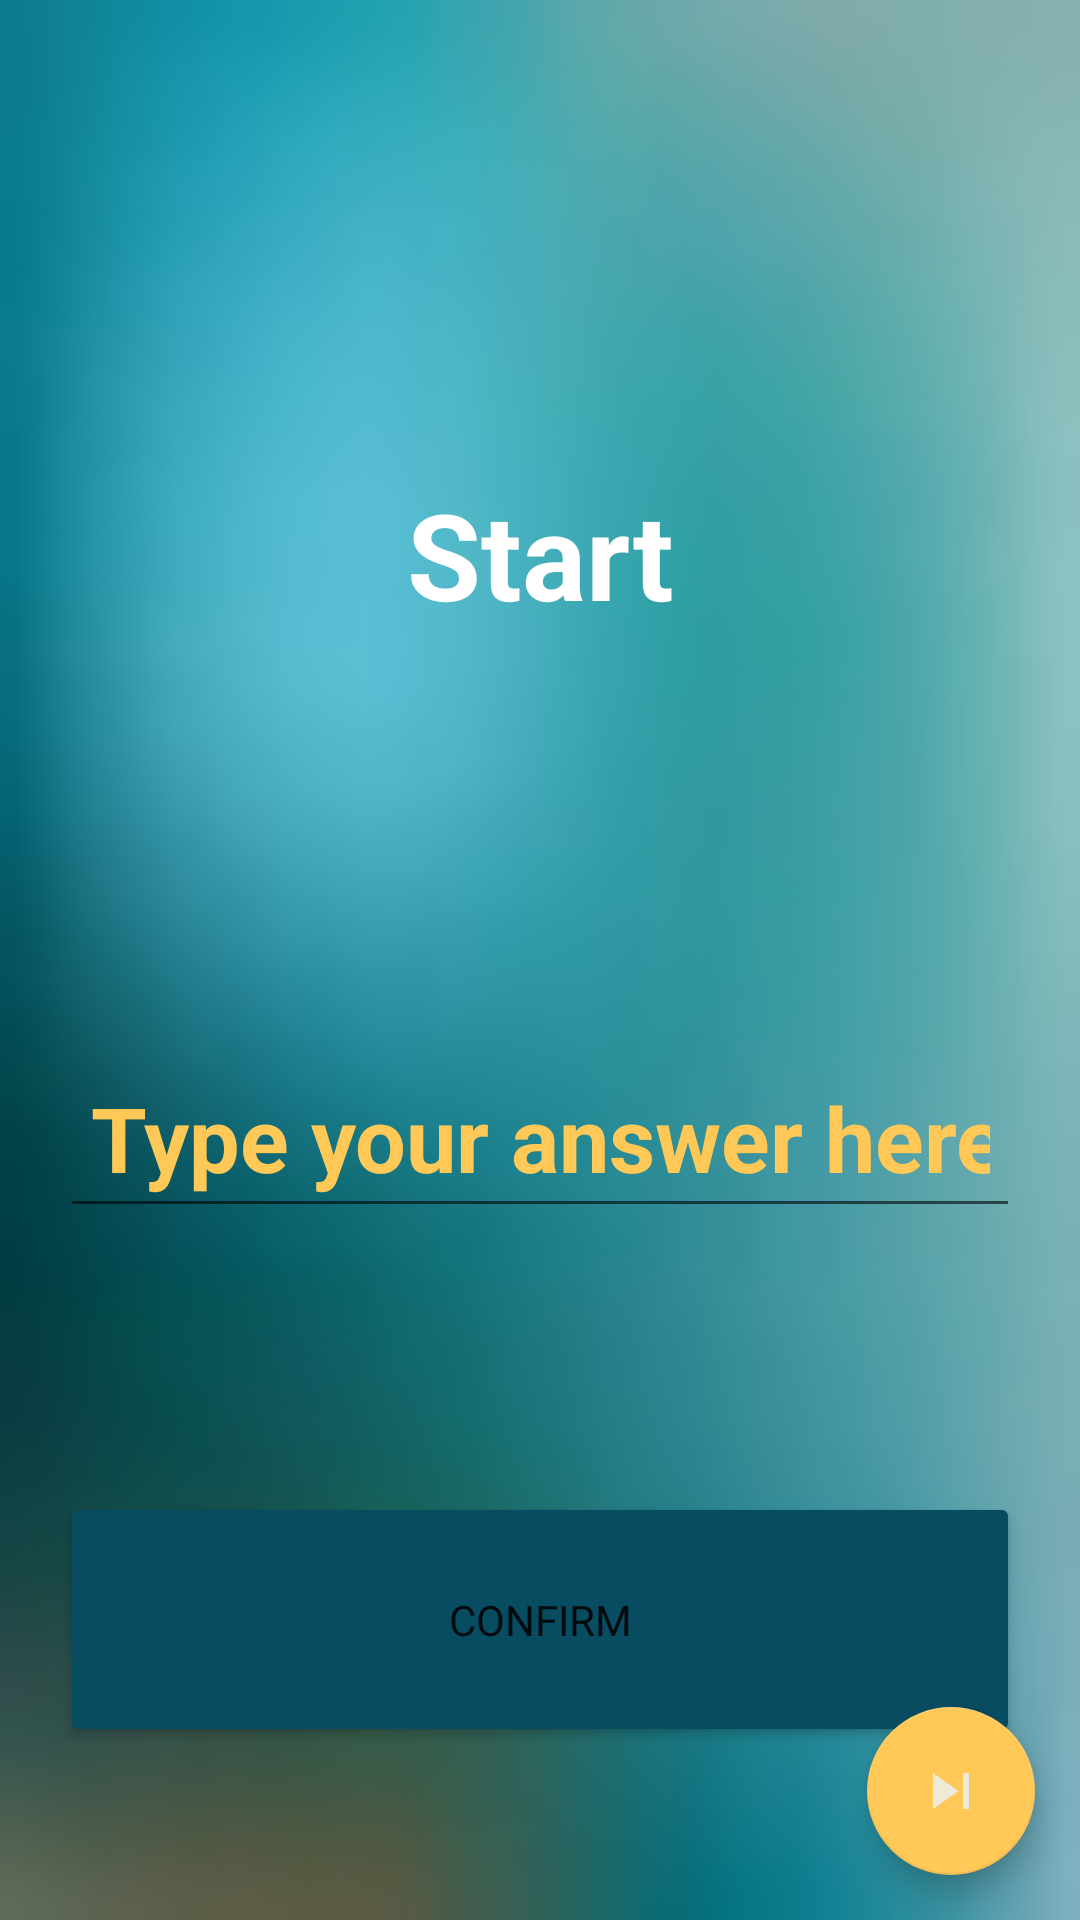

Where to tap for icons on this 1080x1920 app screen, as (x=x, y=y):
skip next: (x=951, y=1791)
